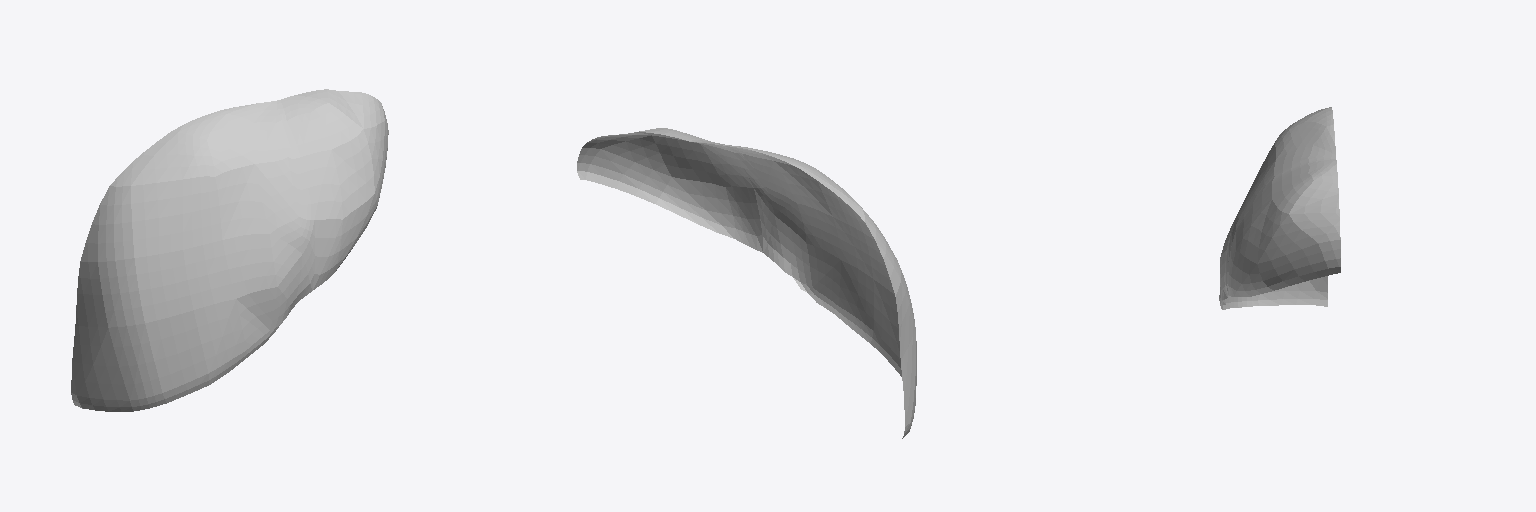
File: baseLiverGen_frontHalf_obs_761points.obj
The picture shows the model from 3 angles: view 1: azimuth 30°, elevation 25°; view 2: azimuth 150°, elevation 25°; view 3: azimuth 270°, elevation 25°; orthographic projection.
Parts seen in each view (by area): view 1: Mesh1.002; view 2: Mesh1.002; view 3: Mesh1.002.
Part boxes in pixels (x1,y1,x2,y2): Mesh1.002: (71, 89, 388, 411); Mesh1.002: (577, 128, 916, 438); Mesh1.002: (1219, 107, 1340, 309).
Size of the model in its own units: 0.2066 by 0.157 by 0.0675.